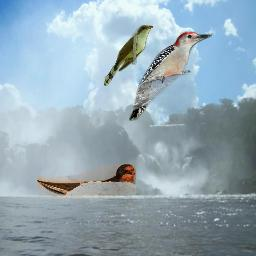Cuckoo: (104, 25, 153, 86)
Swallow: (37, 163, 136, 199)
Woodpecker: (129, 31, 212, 121)
